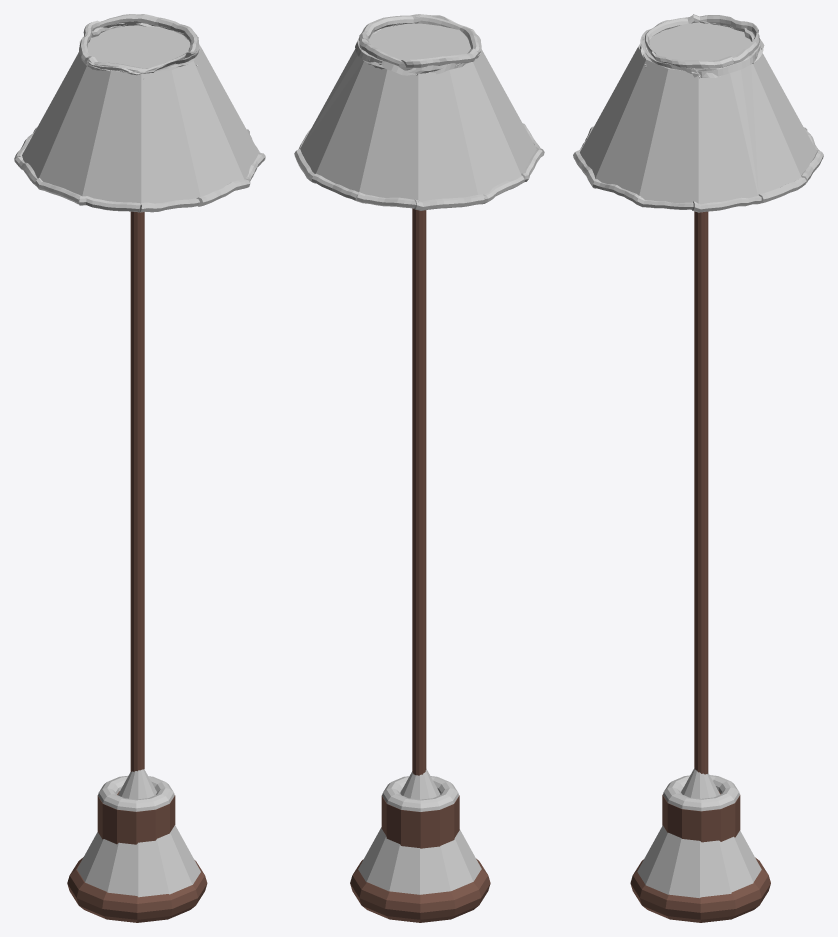
Rendered from lamp.obj.
3 renders of one model, left to right at view 1: azimuth 30°, elevation 25°; view 2: azimuth 150°, elevation 25°; view 3: azimuth 270°, elevation 25°, orthographic.
Visible parts, largest first — view 1: group663315449, group2146598150, group98939259, group295391733, group802999880, group2143784288, group439359913, group2031585872, group322761414, group158485985, group461903529; view 2: group663315449, group2146598150, group98939259, group295391733, group802999880, group2143784288, group759175053, group793641771, group322761414, group2031585872, group326329088, group1783123766; view 3: group663315449, group2146598150, group98939259, group295391733, group802999880, group2143784288, group322761414, group314949552, group793641771.
Part boxes in pixels (x1=…): group663315449: x1=22, y1=25, x2=259, y2=203; group2146598150: x1=130, y1=211, x2=144, y2=771; group98939259: x1=77, y1=769, x2=200, y2=897; group295391733: x1=67, y1=857, x2=207, y2=922; group802999880: x1=97, y1=791, x2=175, y2=844; group2143784288: x1=98, y1=776, x2=174, y2=811; group439359913: x1=79, y1=196, x2=140, y2=212; group2031585872: x1=79, y1=23, x2=199, y2=75; group322761414: x1=158, y1=18, x2=198, y2=57; group158485985: x1=138, y1=198, x2=199, y2=212; group461903529: x1=196, y1=179, x2=250, y2=206; group663315449: x1=300, y1=23, x2=536, y2=201; group2146598150: x1=412, y1=208, x2=426, y2=775; group98939259: x1=358, y1=769, x2=481, y2=894; group295391733: x1=350, y1=858, x2=490, y2=922; group802999880: x1=381, y1=795, x2=459, y2=848; group2143784288: x1=382, y1=776, x2=458, y2=811; group759175053: x1=414, y1=194, x2=484, y2=210; group793641771: x1=401, y1=48, x2=478, y2=67; group322761414: x1=359, y1=14, x2=420, y2=42; group2031585872: x1=378, y1=14, x2=481, y2=75; group326329088: x1=356, y1=192, x2=419, y2=208; group1783123766: x1=414, y1=15, x2=479, y2=51; group663315449: x1=580, y1=22, x2=816, y2=204; group2146598150: x1=694, y1=211, x2=708, y2=774; group98939259: x1=637, y1=768, x2=761, y2=898; group295391733: x1=630, y1=857, x2=770, y2=922; group802999880: x1=662, y1=791, x2=740, y2=842; group2143784288: x1=663, y1=775, x2=739, y2=811; group322761414: x1=652, y1=51, x2=734, y2=68; group314949552: x1=692, y1=196, x2=761, y2=212; group793641771: x1=693, y1=14, x2=758, y2=36.
Size of the model in its own units: 1.77 by 6.85 by 1.8.
